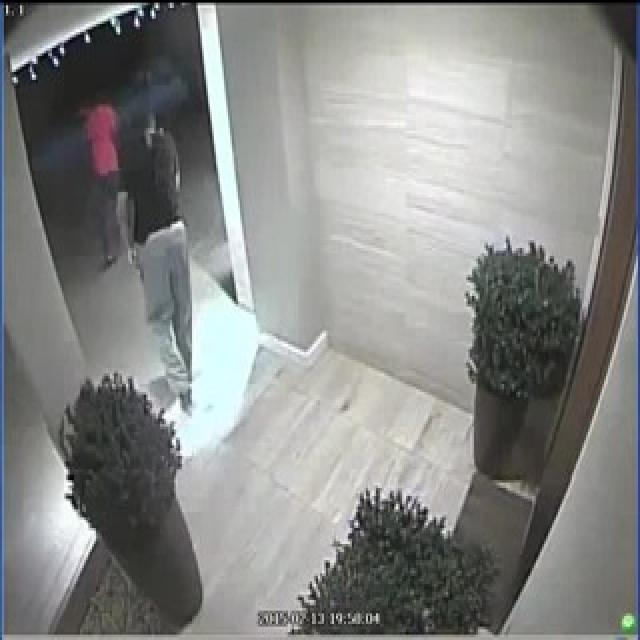thief: (134, 93, 206, 381), (78, 92, 128, 261)
